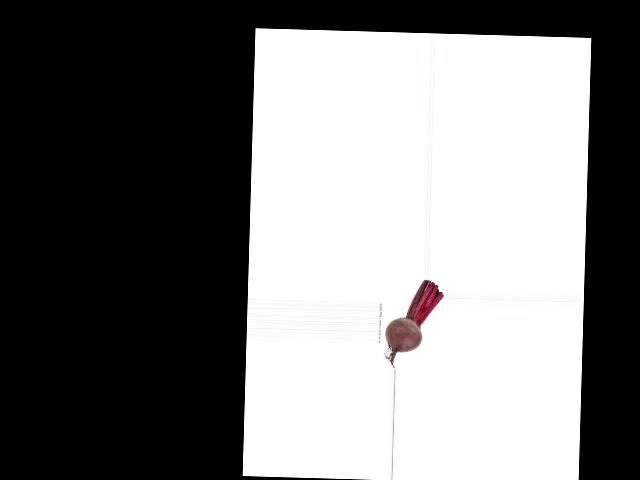beet: (384, 278, 443, 368)
